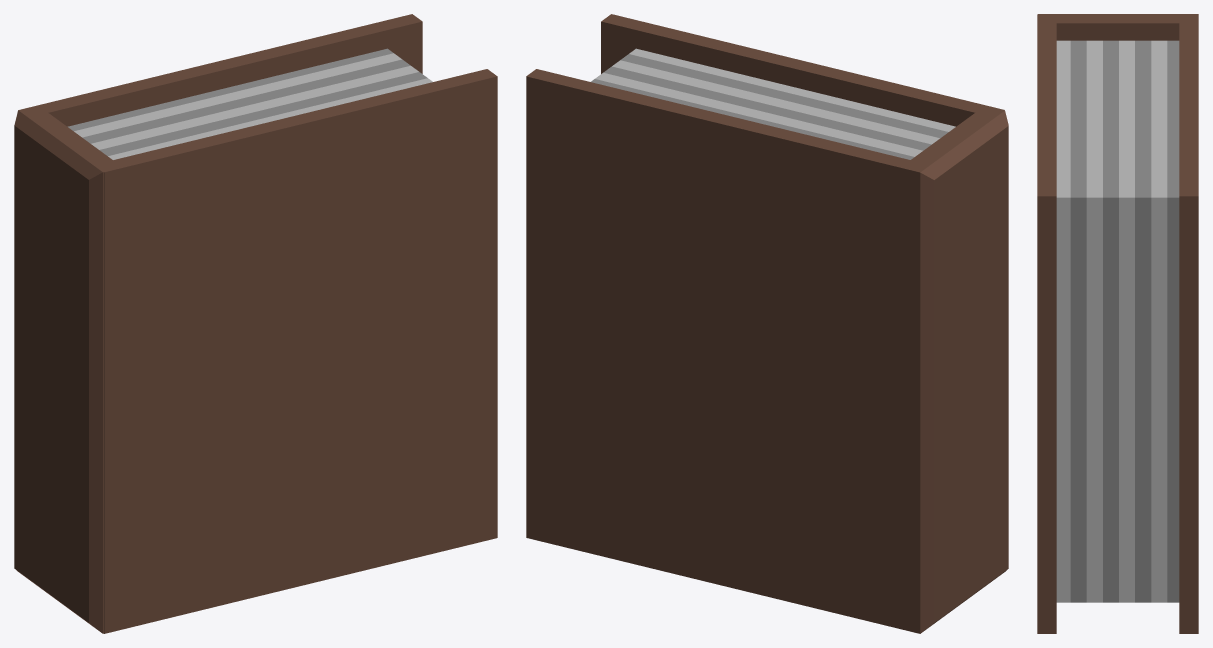
Rendered from Libro.fbx.
3 renders of one model, left to right at view 1: azimuth 30°, elevation 25°; view 2: azimuth 150°, elevation 25°; view 3: azimuth 270°, elevation 25°, orthographic. The views are drawn at different scales.
Visible parts, largest first — view 1: pCube3; view 2: pCube3; view 3: pCube3.
Boxes of the visible parts, x1,y1,x2,y2 form: pCube3: [14, 14, 497, 633]; pCube3: [526, 14, 1008, 633]; pCube3: [1037, 14, 1198, 633].
Size of the model in its own units: 9.23 by 10.1 by 3.38.
